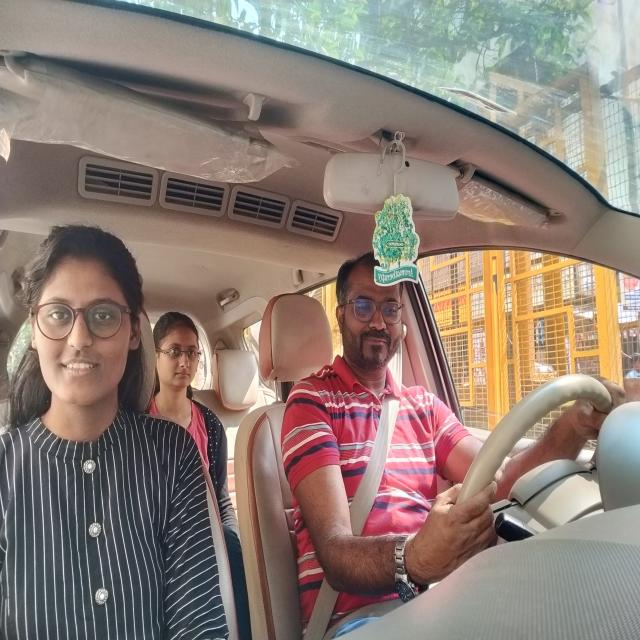person: (31, 227, 136, 398), (332, 260, 405, 360), (157, 310, 203, 402)
